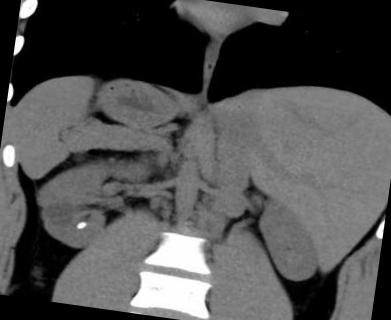Tas_Var: (74, 220, 87, 232)
